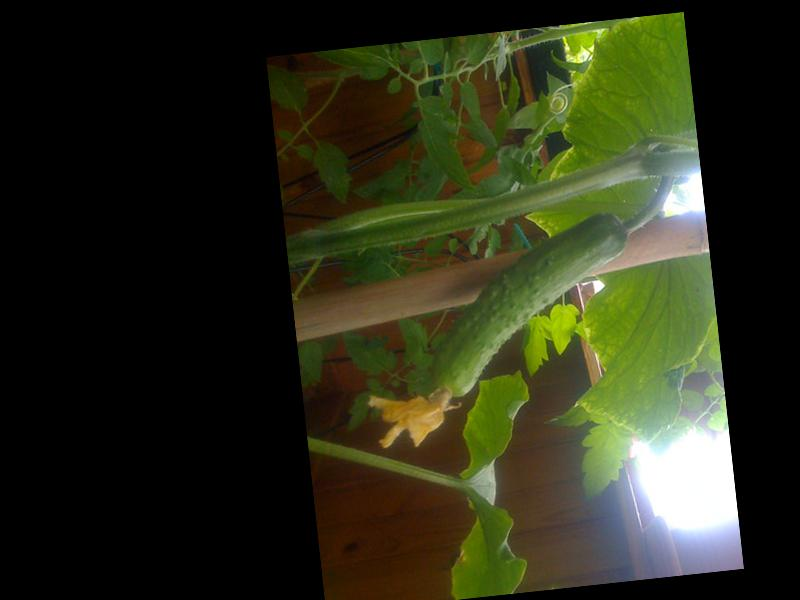Cucumber: (349, 212, 646, 453)
